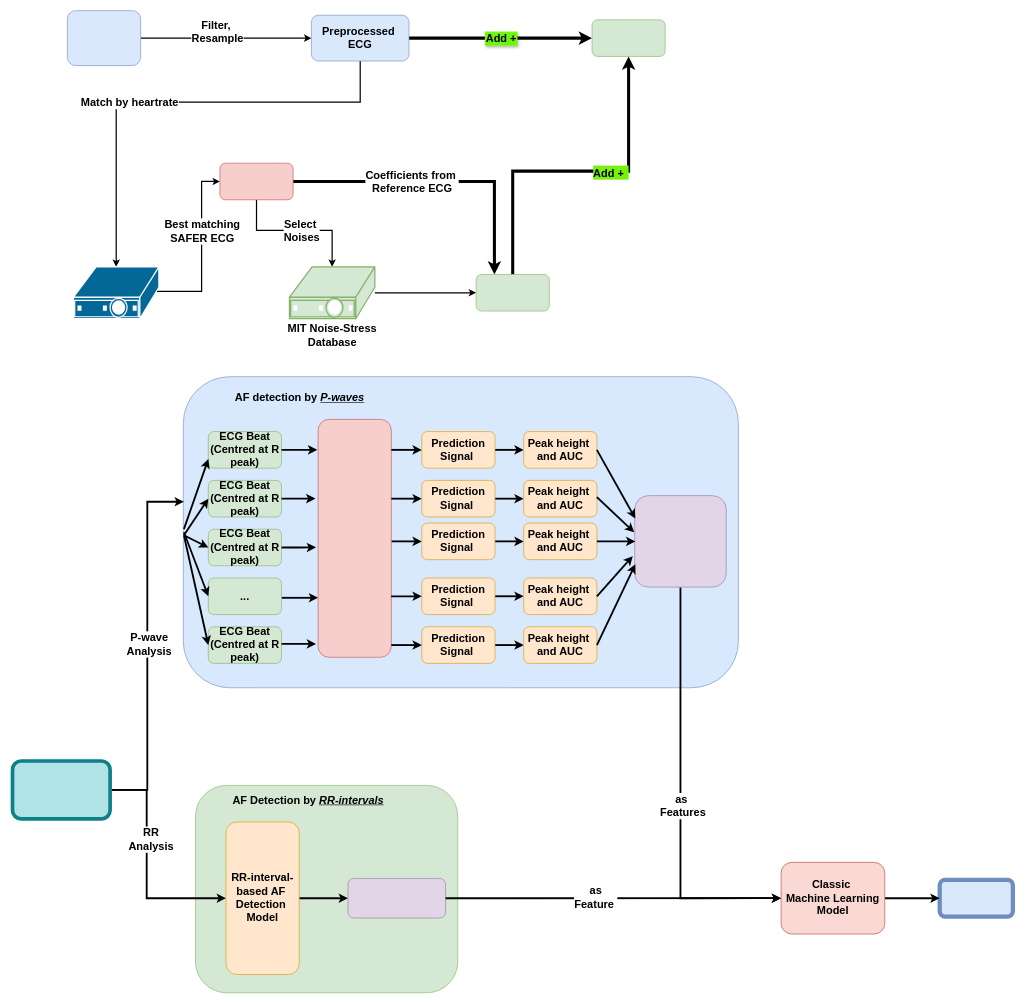
Some shapes in this 1025 by 1003 pixel diagram are drawn without their labels. The box of each missing label's shape, as (x1, y1, x2, y2) in pixels:
AF / non-AF: (937, 877, 1015, 918)
Augmented ECG: (591, 19, 665, 56)
ECG Segment (30s): (10, 759, 112, 820)
ECG to augment: (67, 10, 141, 66)
P-wave Detection Model: (318, 419, 391, 657)
Probability of AF by RR intervals: (347, 878, 446, 918)
SAFER ECG: (219, 163, 293, 200)
SAFER ECG Signals: (73, 266, 159, 319)
Selected Noises: (475, 274, 549, 311)
Statistical and Threshold-based features: (634, 495, 726, 587)
